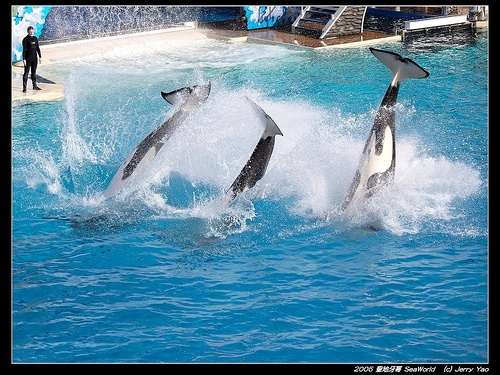head: (27, 25, 36, 38)
person: (20, 25, 41, 89)
